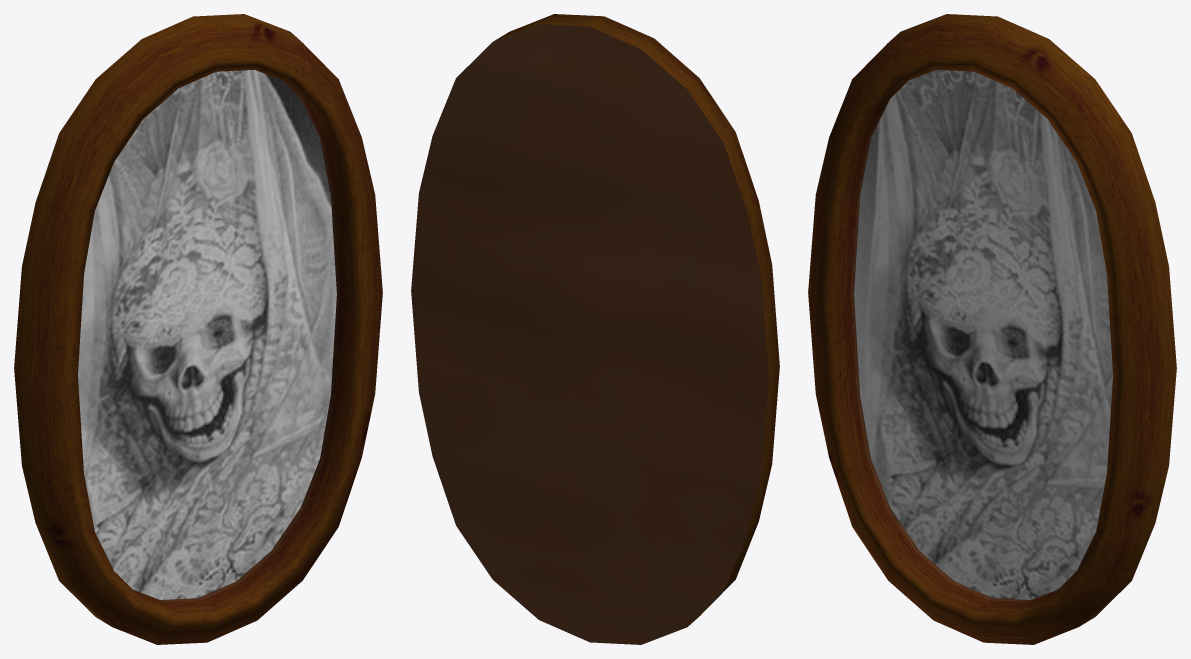
File: EN_P_Frame1.fbx
3 renders of one model, left to right at view 1: azimuth 30°, elevation 25°; view 2: azimuth 150°, elevation 25°; view 3: azimuth 330°, elevation 25°, orthographic.
Visible parts, largest first — view 1: frame1; view 2: frame1; view 3: frame1.
Part boxes in pixels (<box>): frame1: <box>14,14,382,644</box>; frame1: <box>411,14,779,644</box>; frame1: <box>808,14,1176,644</box>.
Bounding box in the file's own units: 46.62 × 76.64 × 5.95.
